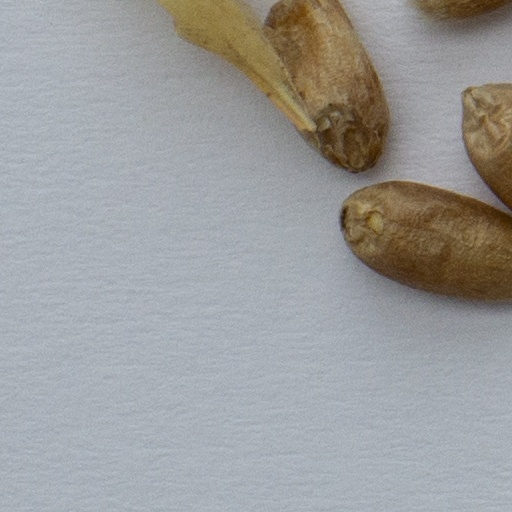Peel-poly: (160, 0, 313, 136)
